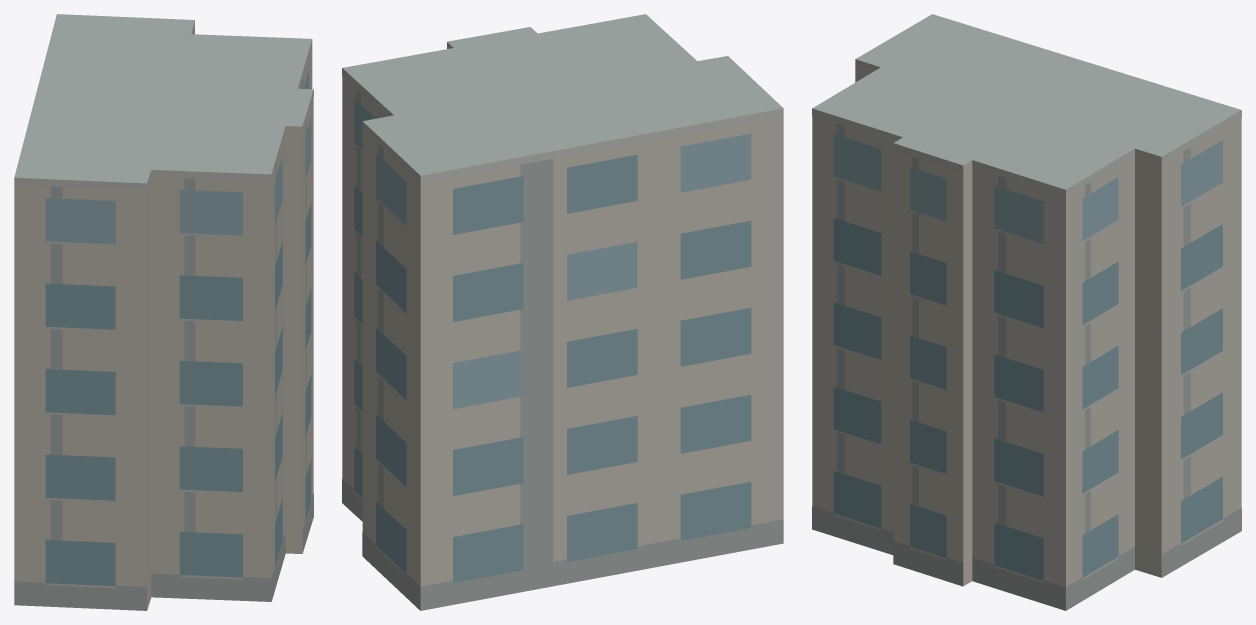
Rendered from survey-upis-32998811.glb.
The picture shows the model from 3 angles, left to right: view 1: azimuth 30°, elevation 25°; view 2: azimuth 150°, elevation 25°; view 3: azimuth 270°, elevation 25°; orthographic projection. The views are drawn at different scales.
Visible parts, largest first — view 1: survey-upis-32998811.tmp; view 2: survey-upis-32998811.tmp; view 3: survey-upis-32998811.tmp.
Part boxes in pixels (box(x1,y1,x2,y2)): survey-upis-32998811.tmp: box(14, 14, 313, 610); survey-upis-32998811.tmp: box(342, 14, 783, 610); survey-upis-32998811.tmp: box(812, 14, 1241, 610).
Bounding box in the file's own units: 12.73 × 14.2 × 13.14.
